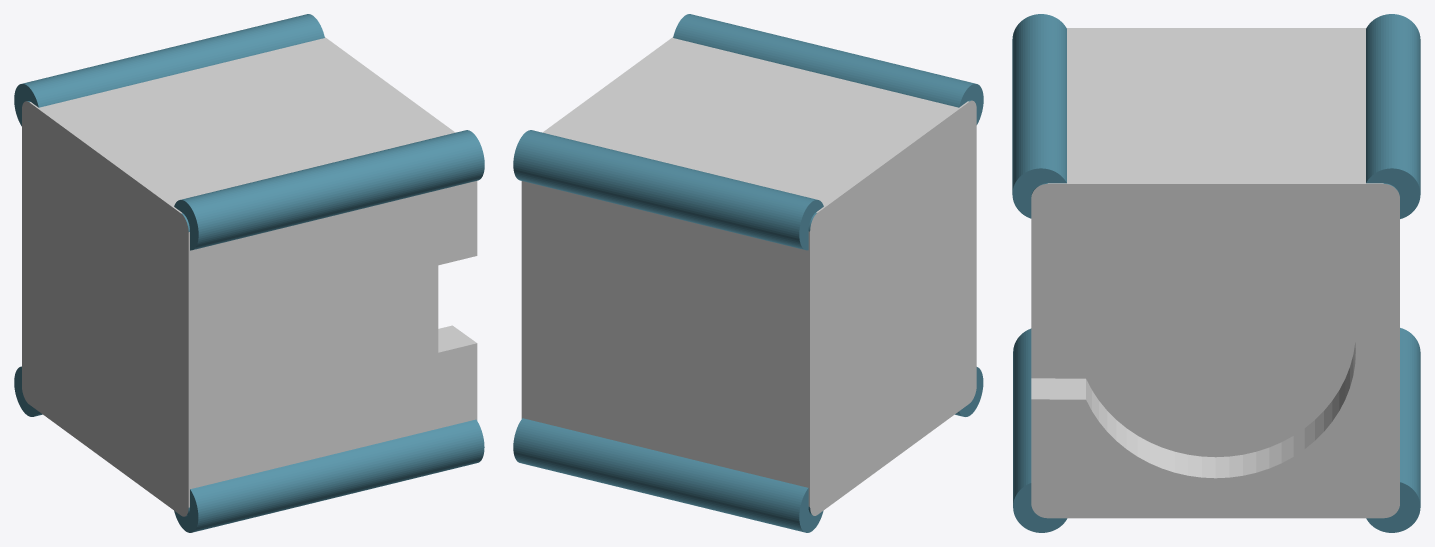
3 renders of one model, left to right at view 1: azimuth 30°, elevation 25°; view 2: azimuth 150°, elevation 25°; view 3: azimuth 270°, elevation 25°, orthographic. The views are drawn at different scales.
Parts seen in each view (by area): view 1: Base; view 2: Base; view 3: Base.
Boxes of the visible parts, x1,y1,x2,y2 form: Base: (14, 14, 484, 532); Base: (513, 14, 983, 532); Base: (1012, 14, 1420, 532).
Bounding box in the file's own units: 2 × 2.21 × 2.18.
